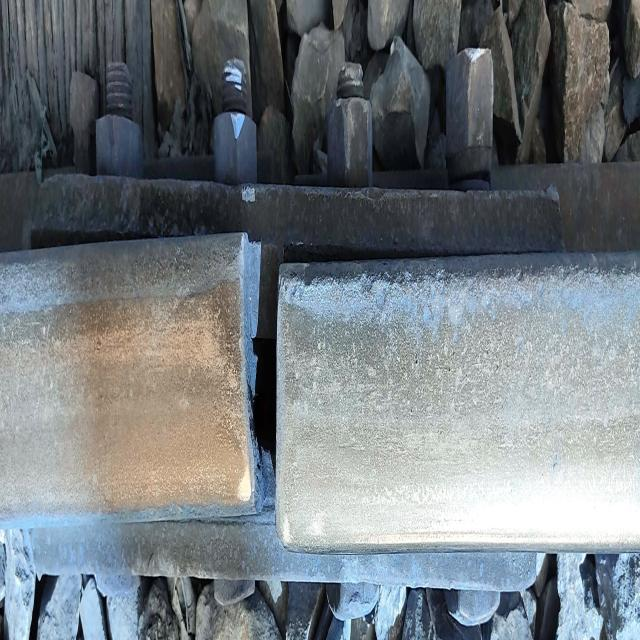Defective Joint: (9, 13, 592, 640)
